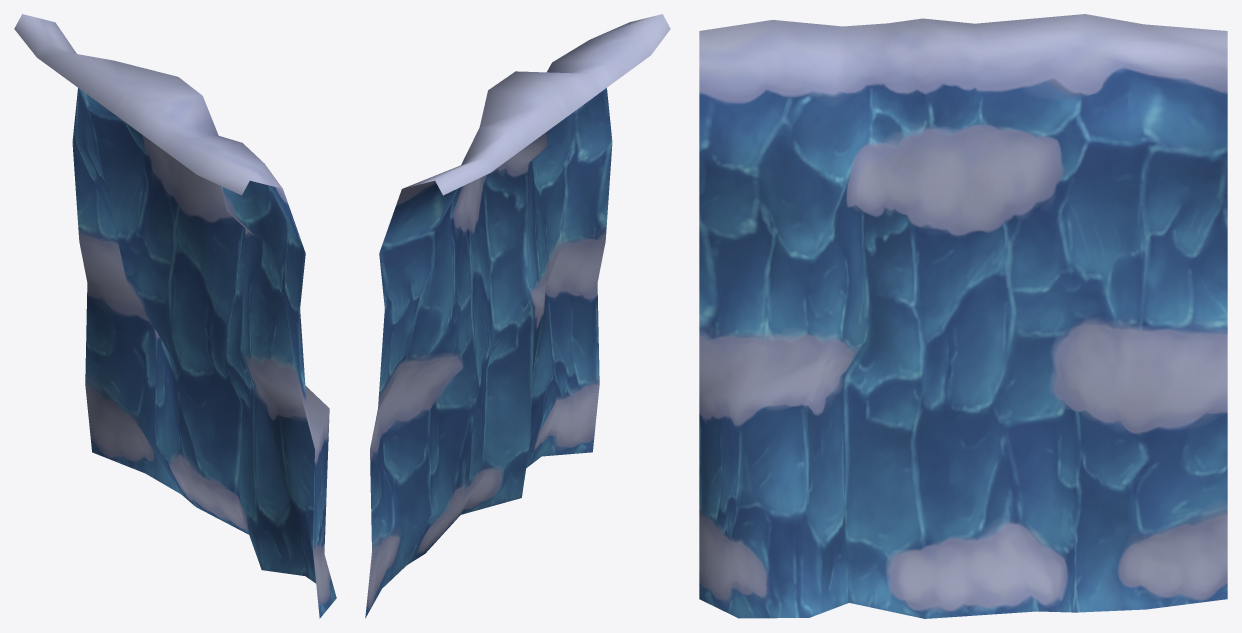
File: big_cliff_01.fbx
3 renders of one model, left to right at view 1: azimuth 30°, elevation 25°; view 2: azimuth 150°, elevation 25°; view 3: azimuth 270°, elevation 25°, orthographic. The views are drawn at different scales.
Parts seen in each view (by area): view 1: big_cliff_01; view 2: big_cliff_01; view 3: big_cliff_01.
Boxes of the visible parts, x1,y1,x2,y2 form: big_cliff_01: (14,14,336,618); big_cliff_01: (365,14,670,618); big_cliff_01: (699,14,1227,618).
Bounding box in the file's own units: 2.26 × 8.01 × 7.12.
